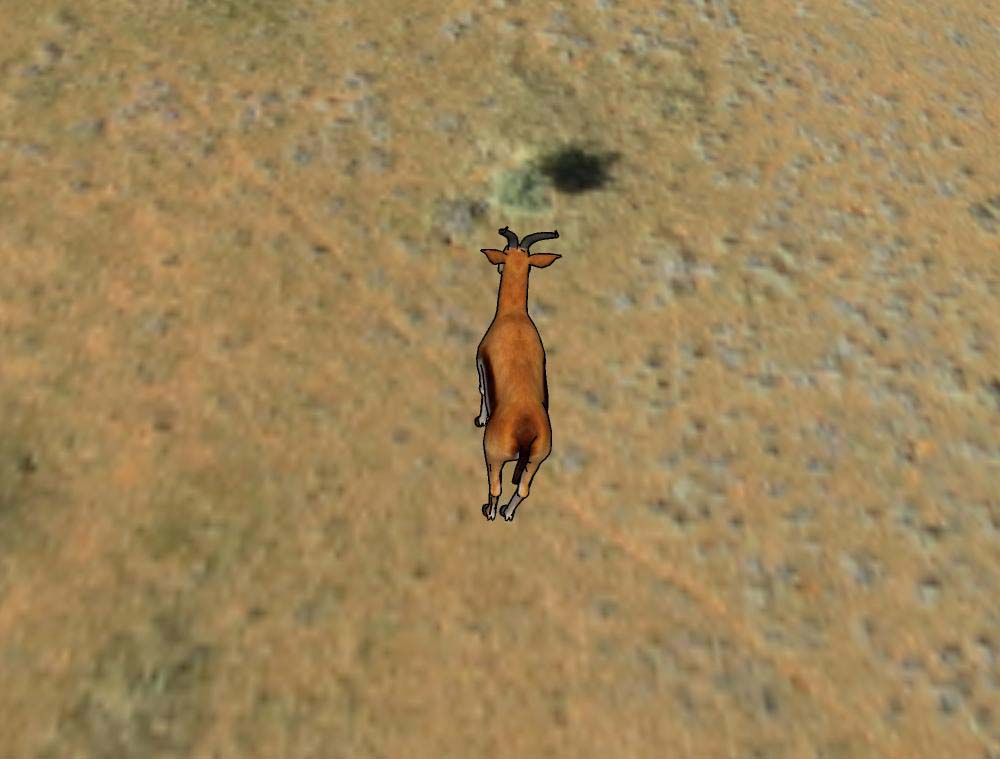springbok: (456, 223, 577, 522)
